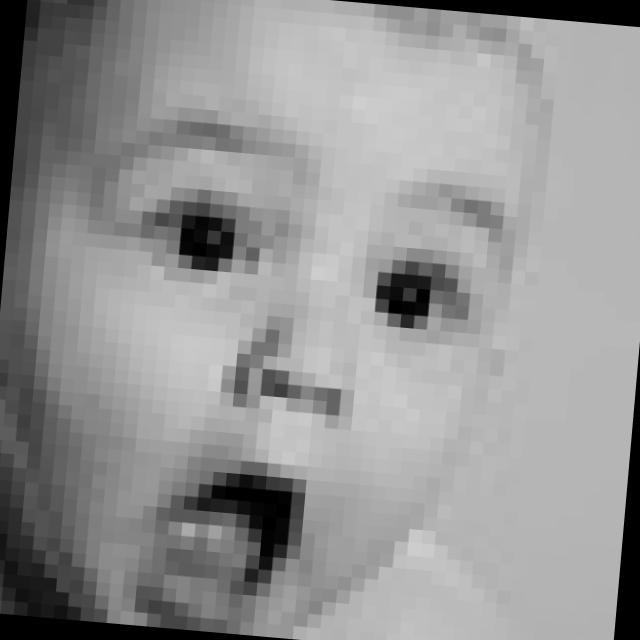surprise: (65, 106, 498, 640)
